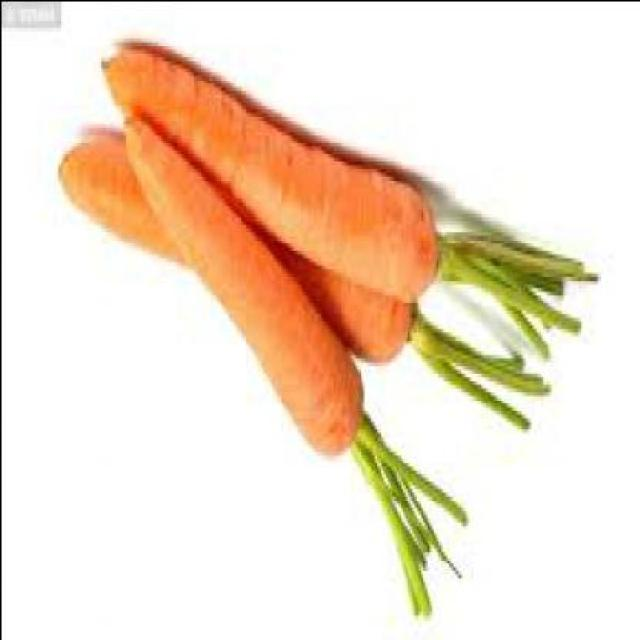BIODEGRADABLE: (121, 120, 465, 626), (98, 41, 594, 361), (52, 116, 546, 436)
